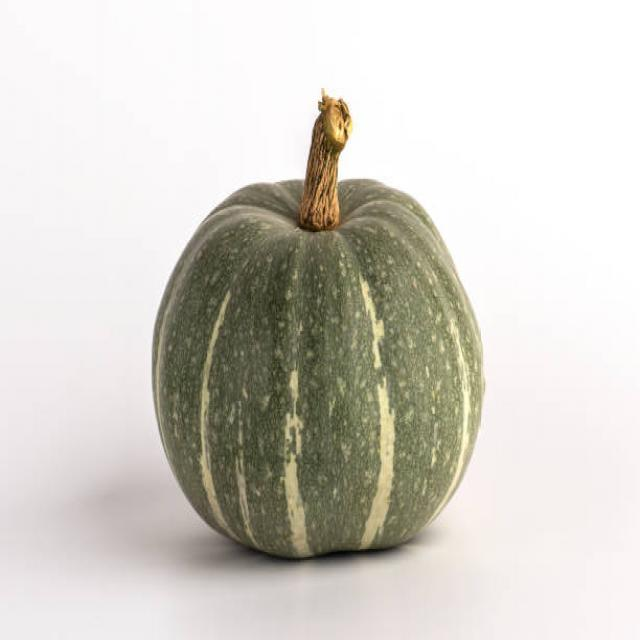Pumpkin: (146, 157, 491, 561)
